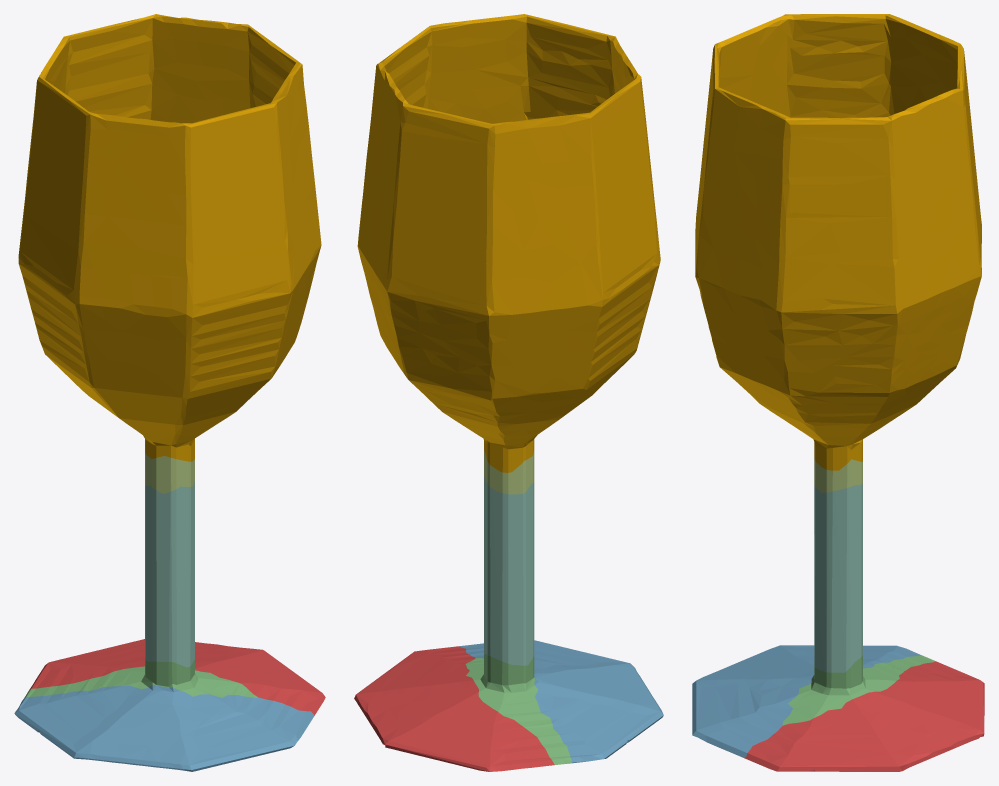
File: fractured_10_6pcs.glb
The picture shows the model from 3 angles, left to right: view 1: azimuth 30°, elevation 25°; view 2: azimuth 150°, elevation 25°; view 3: azimuth 270°, elevation 25°; orthographic projection.
Parts seen in each view (by area): view 1: piece_0.obj, piece_2.obj, piece_4.obj, piece_1.obj, piece_3.obj, piece_5.obj; view 2: piece_0.obj, piece_1.obj, piece_2.obj, piece_4.obj, piece_3.obj, piece_5.obj; view 3: piece_0.obj, piece_1.obj, piece_2.obj, piece_4.obj, piece_3.obj, piece_5.obj.
Boxes of the visible parts, bbox=[...] form: piece_0.obj: bbox=[18, 14, 321, 461]; piece_2.obj: bbox=[14, 685, 314, 771]; piece_4.obj: bbox=[145, 482, 194, 667]; piece_1.obj: bbox=[27, 639, 325, 715]; piece_3.obj: bbox=[24, 658, 257, 698]; piece_5.obj: bbox=[145, 453, 194, 493]; piece_0.obj: bbox=[357, 14, 660, 472]; piece_1.obj: bbox=[354, 646, 554, 771]; piece_2.obj: bbox=[459, 640, 663, 763]; piece_4.obj: bbox=[484, 477, 534, 665]; piece_3.obj: bbox=[465, 654, 571, 764]; piece_5.obj: bbox=[484, 450, 534, 494]; piece_0.obj: bbox=[695, 14, 981, 470]; piece_1.obj: bbox=[744, 661, 984, 771]; piece_2.obj: bbox=[692, 645, 921, 757]; piece_4.obj: bbox=[814, 484, 862, 672]; piece_3.obj: bbox=[782, 655, 934, 725]; piece_5.obj: bbox=[814, 459, 862, 492].
Size of the model in its own units: 0.4104 by 1 by 0.4102.
